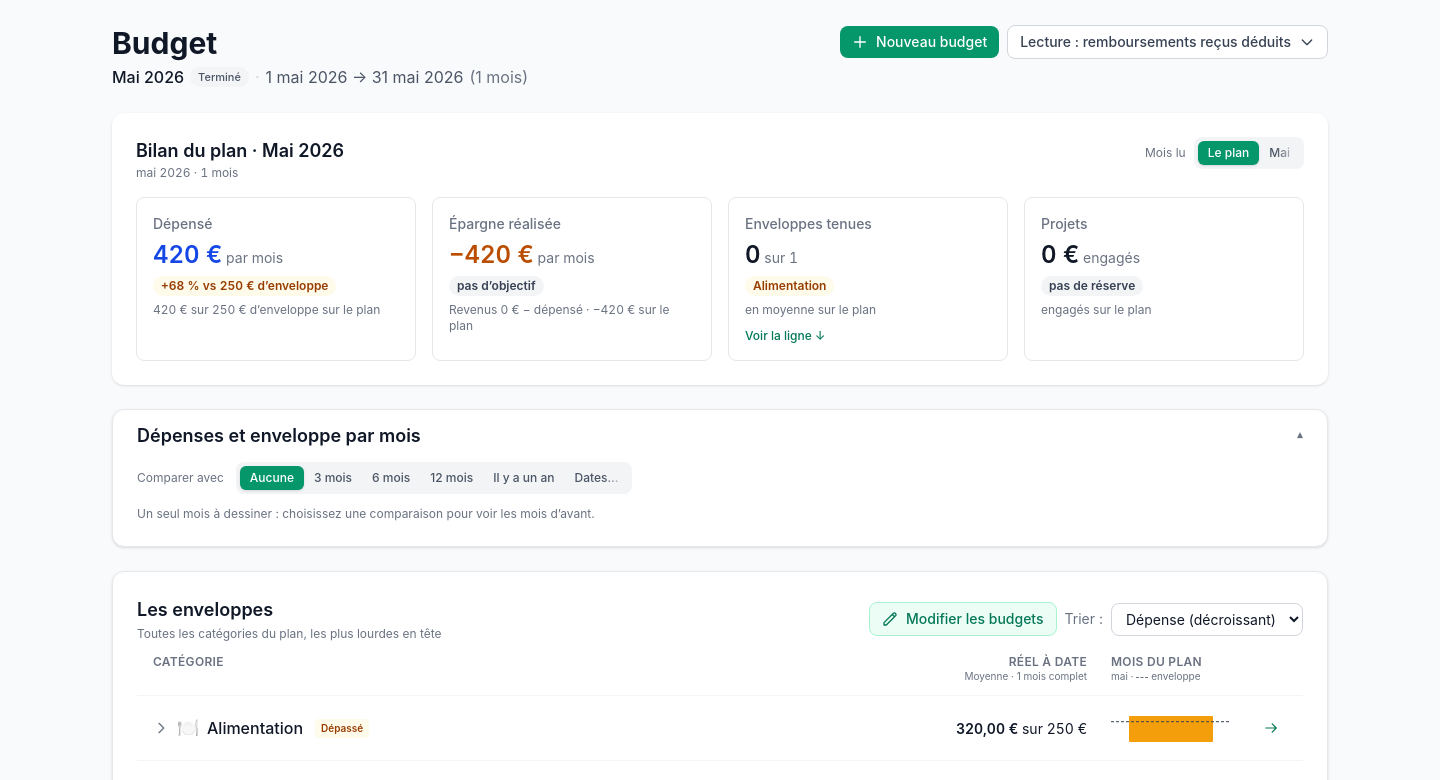
Test: BudgetPage › editing budgets › counts what changed and shows the total it would move to
This screenshot has width=1440, height=780.
Click the button with test id "budget-edit-button": (963, 619) [869,602,1056,636]
(page scrolled)
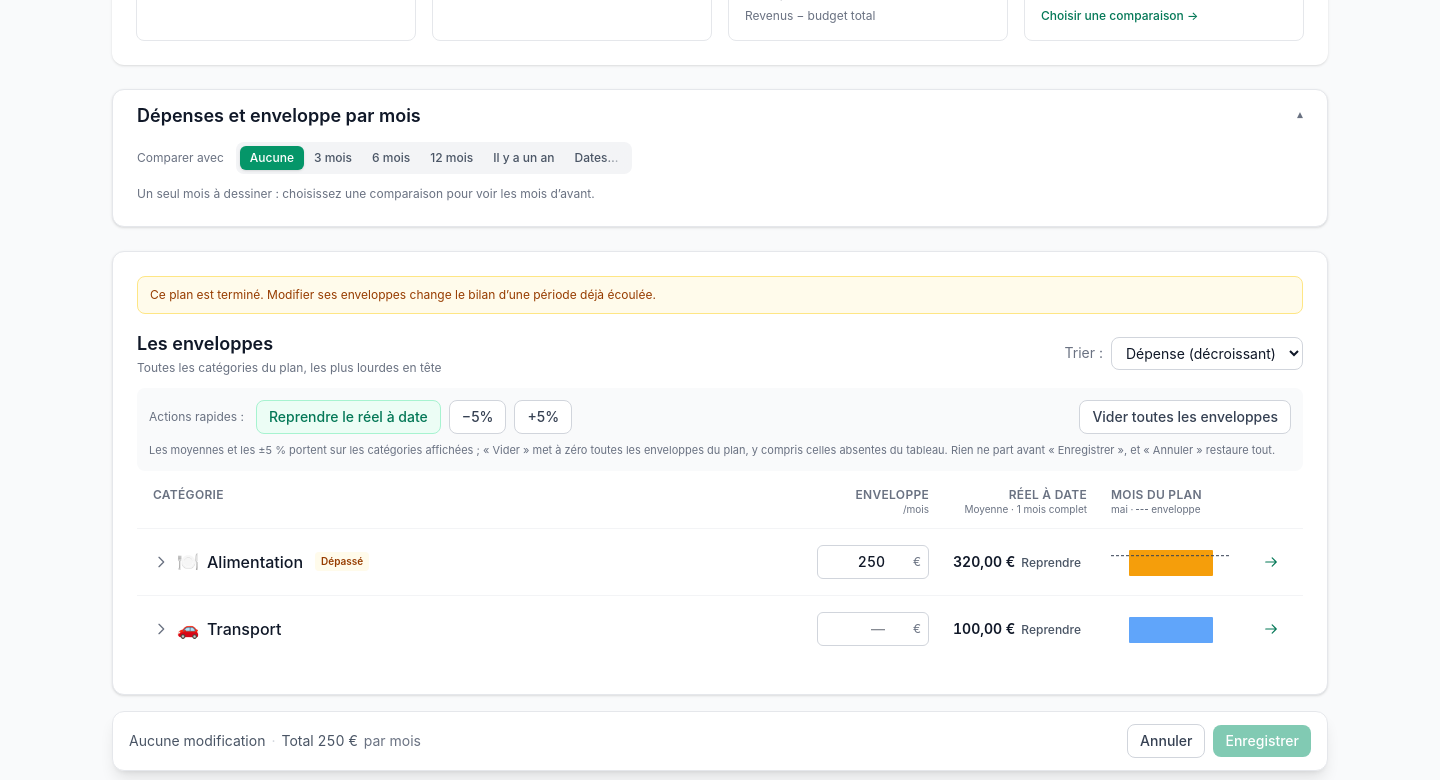
Now the button with test id "budget-save-button" is disabled, box [1214,725,1311,757]
Replace the text in the number field with test id "budget-input-Alimentation" with "300": (873, 562) [817,545,929,579]
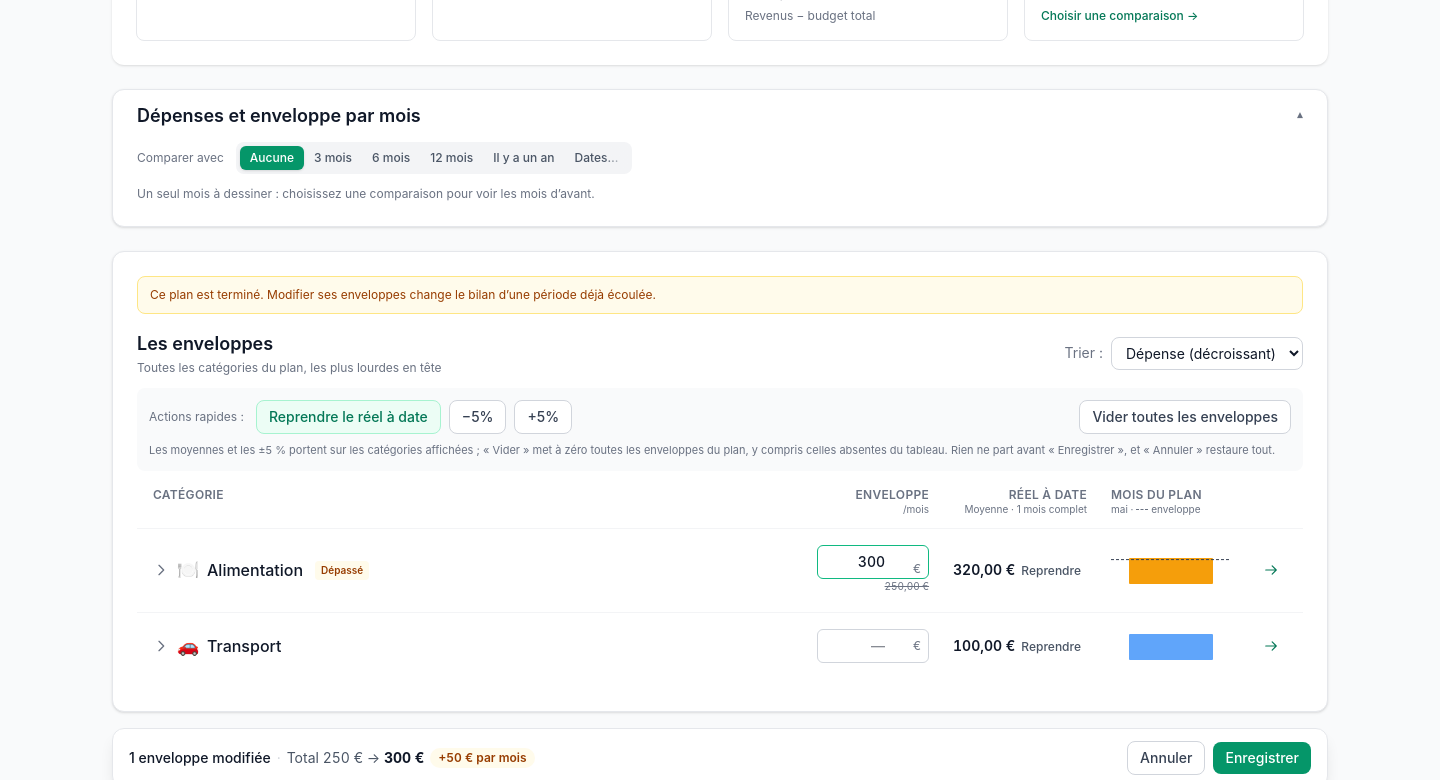
Now the text with test id "budget-dirty-count" reads "1 enveloppe modifiée", box [129,749,271,766]
Now the text with test id "budget-draft-delta" shows "+", box [430,748,535,768]
Now the text with test id "budget-was-Alimentation" shows "250", box [885,580,929,592]
